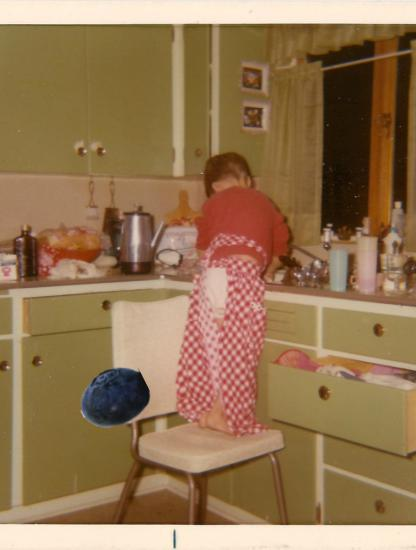Blueberry: (78, 362, 150, 434)
